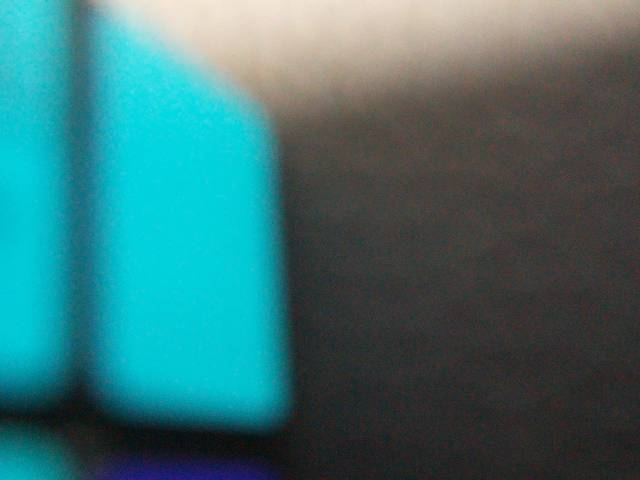boulder: (0, 0, 45, 48)
